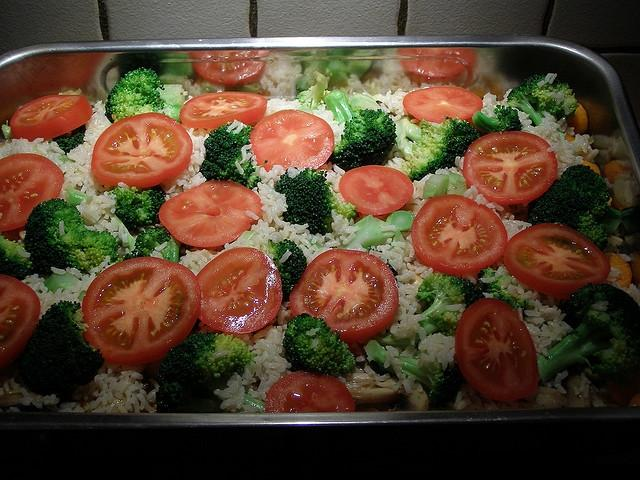broccoli: (537, 283, 640, 386), (7, 300, 105, 398), (156, 333, 258, 413), (530, 164, 622, 252), (23, 198, 118, 275), (323, 91, 397, 172), (394, 116, 482, 183), (274, 167, 356, 235), (282, 312, 356, 376), (416, 272, 486, 338), (104, 67, 180, 123), (200, 122, 262, 190), (506, 74, 580, 126), (108, 183, 166, 236), (267, 238, 307, 302), (337, 214, 395, 249), (0, 231, 35, 281), (472, 105, 522, 134), (296, 71, 328, 108), (53, 124, 86, 155), (134, 227, 170, 248), (620, 206, 640, 240), (422, 174, 449, 199), (65, 187, 91, 206), (2, 124, 12, 142)
carrot: (606, 252, 632, 288), (568, 104, 588, 136), (582, 160, 600, 176)
tomato: (81, 258, 201, 366), (290, 249, 400, 344), (455, 296, 541, 403), (504, 223, 612, 300), (91, 112, 193, 189), (412, 196, 512, 274), (196, 246, 283, 333), (158, 181, 262, 248), (464, 132, 556, 204), (249, 109, 334, 172), (0, 154, 64, 232), (0, 274, 41, 372), (10, 94, 93, 142), (265, 370, 356, 412), (339, 166, 414, 214), (402, 85, 482, 127), (180, 92, 268, 130), (398, 48, 475, 86), (193, 59, 265, 85)
